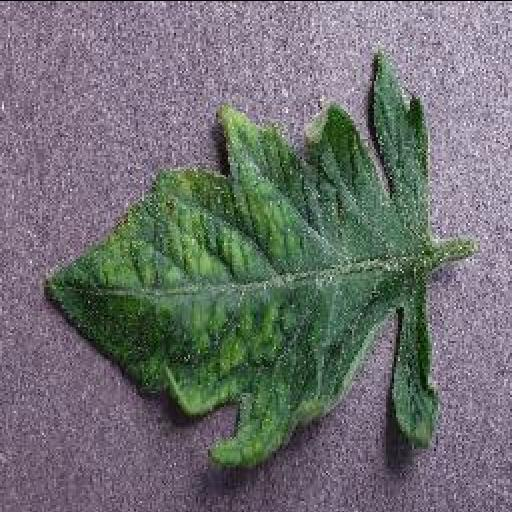Mosaic Virus: (34, 47, 444, 469)
